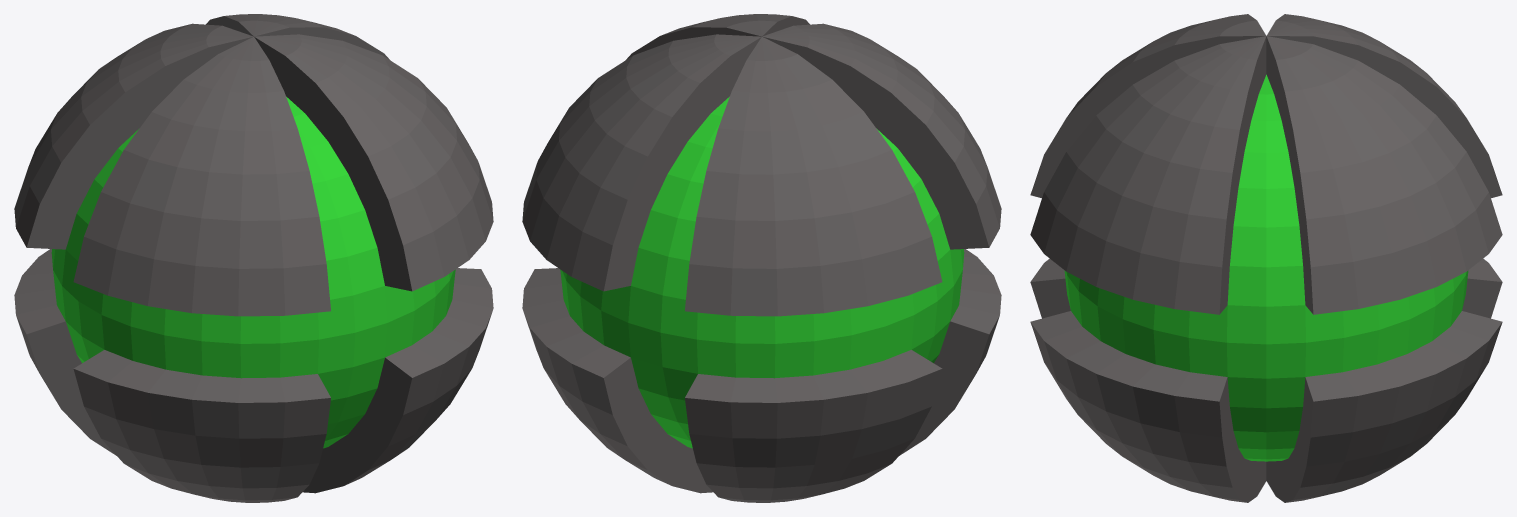
The model's file is Ball1.fbx.
3 renders of one model, left to right at view 1: azimuth 30°, elevation 25°; view 2: azimuth 150°, elevation 25°; view 3: azimuth 270°, elevation 25°, orthographic.
Parts seen in each view (by area): view 1: Sphere; view 2: Sphere; view 3: Sphere.
Boxes of the visible parts, x1,y1,x2,y2 form: Sphere: (14, 14, 493, 502); Sphere: (522, 14, 1001, 502); Sphere: (1030, 14, 1502, 502).
Bounding box in the file's own units: 192 × 200 × 192.
